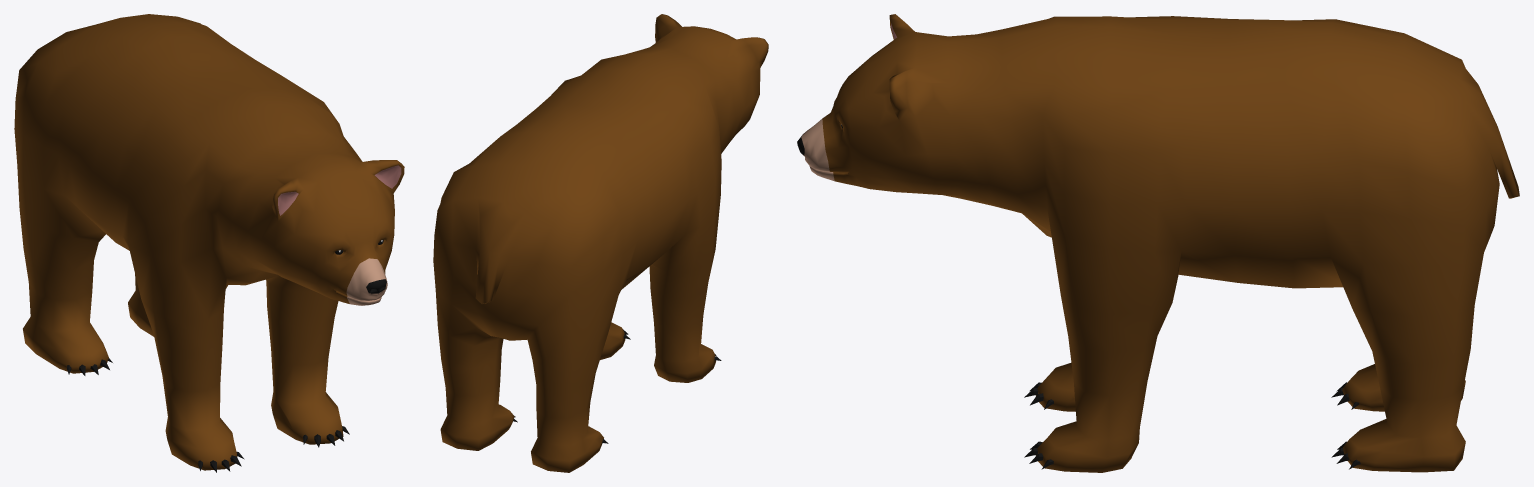
File: Bear.glb
The picture shows the model from 3 angles, left to right: view 1: azimuth 30°, elevation 25°; view 2: azimuth 150°, elevation 25°; view 3: azimuth 270°, elevation 25°; orthographic projection. The views are drawn at different scales.
Parts seen in each view (by area): view 1: Bear; view 2: Bear; view 3: Bear.
Part boxes in pixels (left/top/right/bottom): Bear: left=14, top=14, right=404, bottom=472; Bear: left=433, top=14, right=768, bottom=472; Bear: left=797, top=14, right=1519, bottom=472.
Size of the model in its own units: 0.8527 by 1.37 by 2.22.
1 material, 1 textured.
